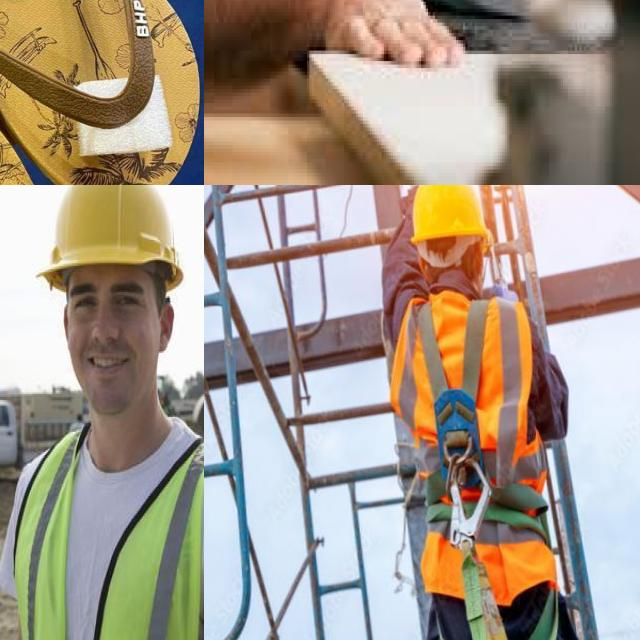Harness: (417, 300, 530, 640)
No_Ear-Protection: (154, 290, 178, 359)
No_Glasses: (64, 275, 152, 329)
Sandals: (0, 0, 204, 185)
face_nomask: (64, 263, 169, 424)
head_helmet: (43, 185, 185, 274)
person: (0, 185, 204, 640)
vest: (0, 407, 204, 640)
